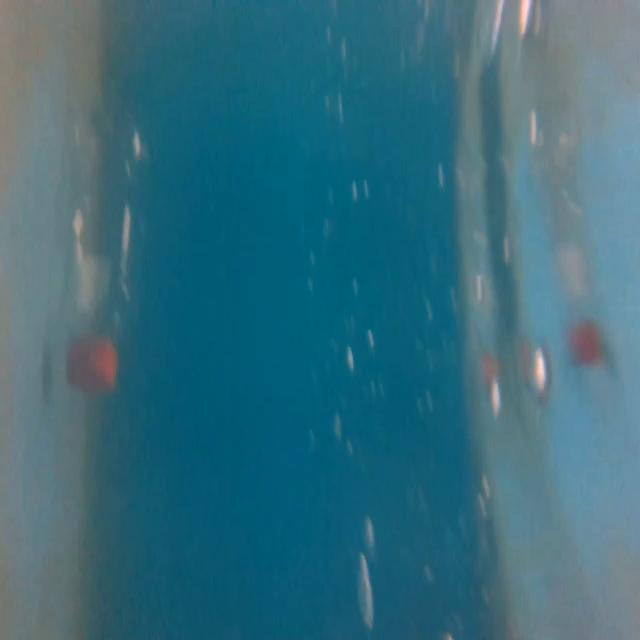plastic bottle: (41, 107, 156, 400)
